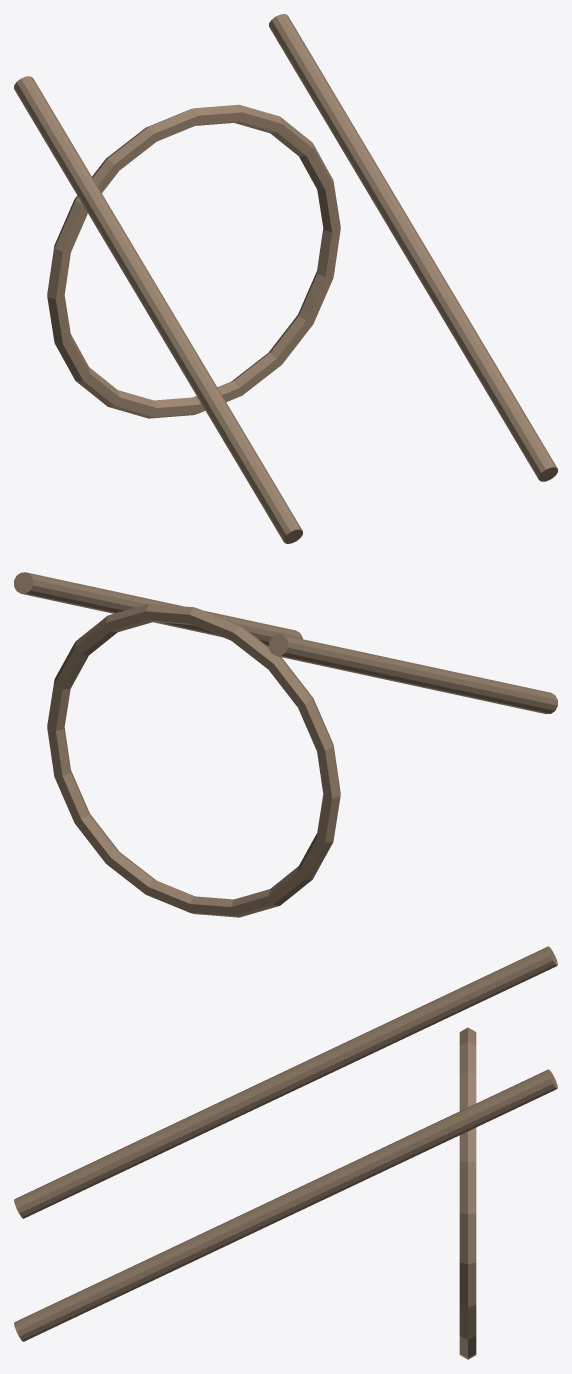
The model's file is EQ-BRIDLE.glb.
3 views of the same model, one above another, from view 1: azimuth 30°, elevation 25°; view 2: azimuth 150°, elevation 25°; view 3: azimuth 270°, elevation 25° (orthographic).
Visible parts, largest first — view 1: cheek_strap (×2), nose_band; view 2: nose_band, cheek_strap (×2); view 3: cheek_strap (×2), nose_band.
Part boxes in pixels (x1,y1,x2,y2): cheek_strap (×2): (14,14,557,543); nose_band: (47,104,340,418); nose_band: (47,603,340,917); cheek_strap (×2): (14,572,557,714); cheek_strap (×2): (14,946,557,1341); nose_band: (459,1027,476,1359).
Bounding box in the file's own units: 0.276 × 0.306 × 0.4483.
